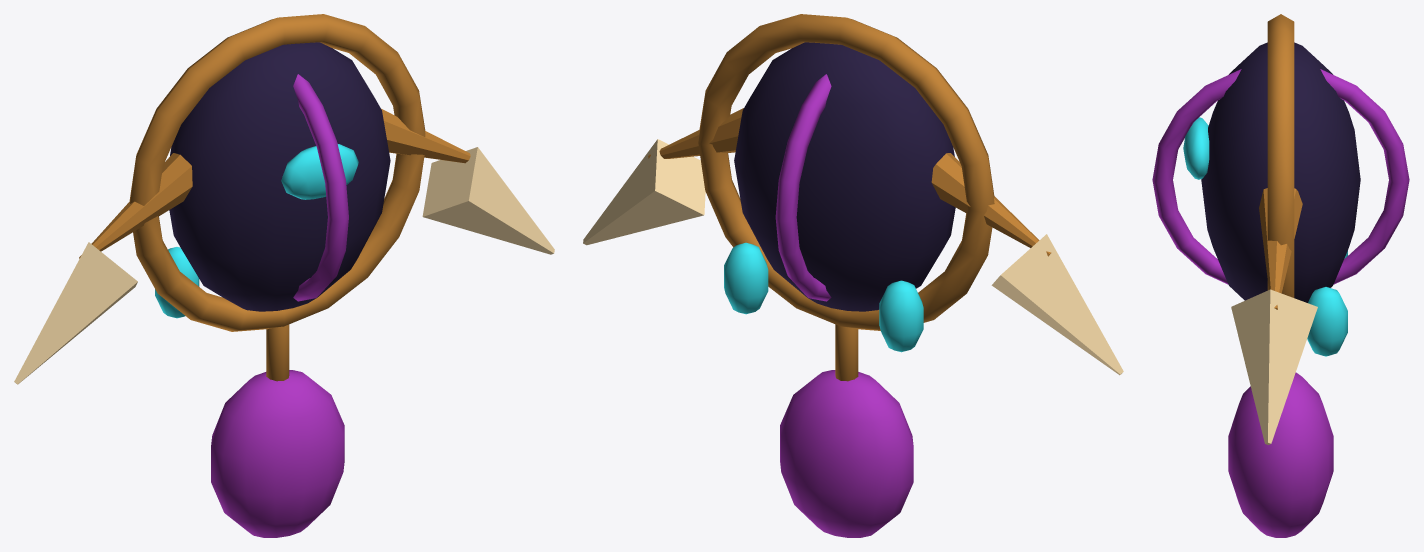
The model's file is pendulum_reaper.obj.
3 renders of one model, left to right at view 1: azimuth 30°, elevation 25°; view 2: azimuth 150°, elevation 25°; view 3: azimuth 270°, elevation 25°, orthographic. The views are drawn at different scales.
Parts seen in each view (by area): view 1: PENDULUM_REAPER_Core, PENDULUM_REAPER_Cage, PENDULUM_REAPER_Pendulum_Bob, PENDULUM_REAPER_Blade_1, PENDULUM_REAPER_Blade_-1, PENDULUM_REAPER_Gyro, PENDULUM_REAPER_Blade_Arm_-1, PENDULUM_REAPER_Eye, PENDULUM_REAPER_Blade_Arm_1, PENDULUM_REAPER_Pendulum_Rod, PENDULUM_REAPER_Thruster_-1; view 2: PENDULUM_REAPER_Core, PENDULUM_REAPER_Cage, PENDULUM_REAPER_Pendulum_Bob, PENDULUM_REAPER_Blade_1, PENDULUM_REAPER_Blade_-1, PENDULUM_REAPER_Gyro, PENDULUM_REAPER_Blade_Arm_-1, PENDULUM_REAPER_Thruster_-1, PENDULUM_REAPER_Thruster_1, PENDULUM_REAPER_Blade_Arm_1, PENDULUM_REAPER_Pendulum_Rod; view 3: PENDULUM_REAPER_Core, PENDULUM_REAPER_Pendulum_Bob, PENDULUM_REAPER_Gyro, PENDULUM_REAPER_Blade_1, PENDULUM_REAPER_Cage, PENDULUM_REAPER_Thruster_1, PENDULUM_REAPER_Blade_Arm_1, PENDULUM_REAPER_Eye.
Boxes of the visible parts, x1,y1,x2,y2 form: PENDULUM_REAPER_Core: (169,42,390,311); PENDULUM_REAPER_Cage: (129,14,425,331); PENDULUM_REAPER_Pendulum_Bob: (211,370,344,537); PENDULUM_REAPER_Blade_1: (422,147,554,254); PENDULUM_REAPER_Blade_-1: (14,242,137,384); PENDULUM_REAPER_Gyro: (293,74,348,301); PENDULUM_REAPER_Blade_Arm_-1: (79,153,192,258); PENDULUM_REAPER_Eye: (281,144,358,199); PENDULUM_REAPER_Blade_Arm_1: (381,108,470,163); PENDULUM_REAPER_Pendulum_Rod: (266,310,289,381); PENDULUM_REAPER_Thruster_-1: (155,247,199,318); PENDULUM_REAPER_Core: (734,42,955,311); PENDULUM_REAPER_Cage: (698,14,994,330); PENDULUM_REAPER_Pendulum_Bob: (780,370,913,537); PENDULUM_REAPER_Blade_1: (583,139,705,245); PENDULUM_REAPER_Blade_-1: (991,234,1123,375); PENDULUM_REAPER_Gyro: (775,74,831,301); PENDULUM_REAPER_Blade_Arm_-1: (931,153,1051,256); PENDULUM_REAPER_Thruster_-1: (879,280,923,352); PENDULUM_REAPER_Thruster_1: (724,242,768,314); PENDULUM_REAPER_Blade_Arm_1: (648,108,743,158); PENDULUM_REAPER_Pendulum_Rod: (835,309,858,381); PENDULUM_REAPER_Core: (1201,42,1360,302); PENDULUM_REAPER_Pendulum_Bob: (1228,372,1333,537); PENDULUM_REAPER_Gyro: (1152,69,1409,284); PENDULUM_REAPER_Blade_1: (1231,289,1317,444); PENDULUM_REAPER_Cage: (1267,14,1294,297); PENDULUM_REAPER_Thruster_1: (1307,287,1347,356); PENDULUM_REAPER_Blade_Arm_1: (1259,188,1302,309); PENDULUM_REAPER_Eye: (1183,117,1209,179).
Size of the model in its own units: 4.73 by 4.33 by 2.
